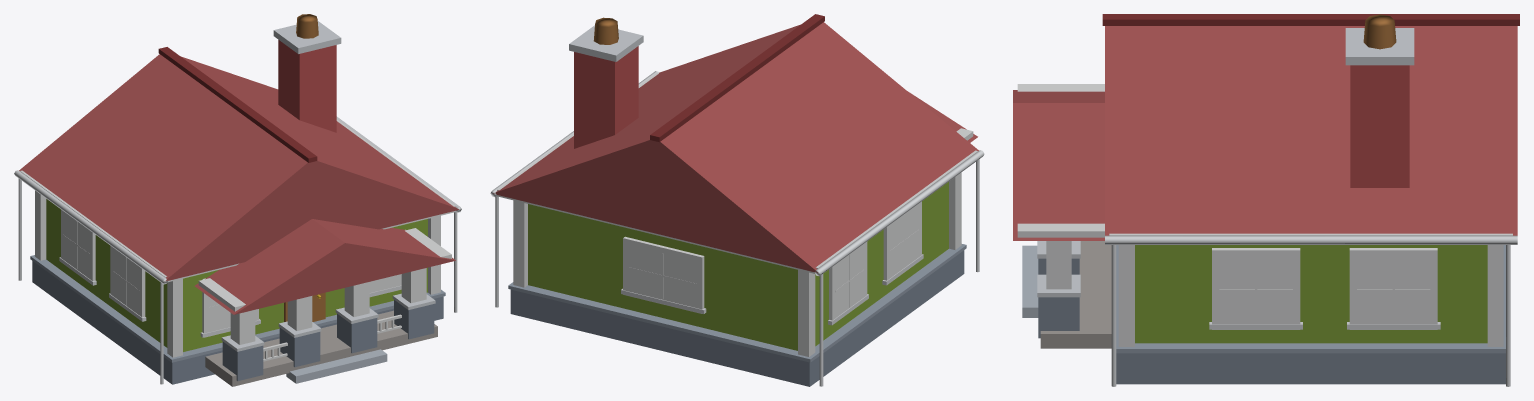
The model's file is craftsman-house.glb.
3 renders of one model, left to right at view 1: azimuth 30°, elevation 25°; view 2: azimuth 150°, elevation 25°; view 3: azimuth 270°, elevation 25°, orthographic. The views are drawn at different scales.
Parts seen in each view (by area): view 1: Root; view 2: Root; view 3: Root.
Boxes of the visible parts, <box> form: Root: <box>14,14,461,386</box>; Root: <box>490,14,984,386</box>; Root: <box>1013,14,1519,386</box>.
Bounding box in the file's own units: 10.5 × 8.07 × 11.05.
